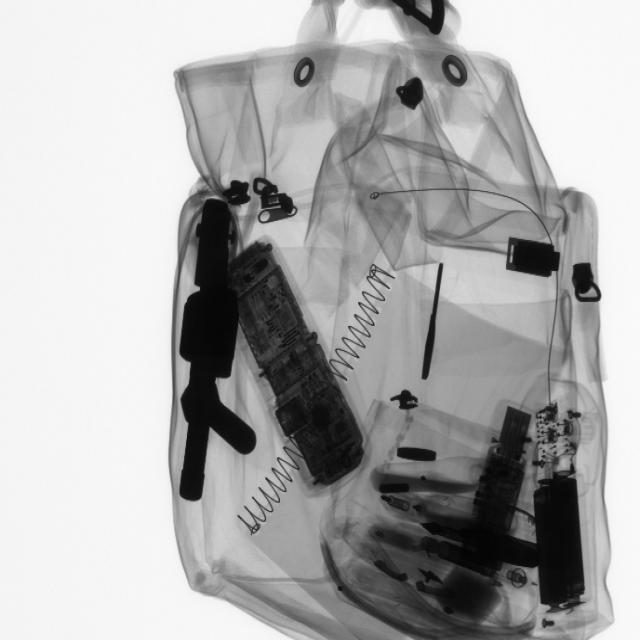GUN: (169, 200, 255, 507)
